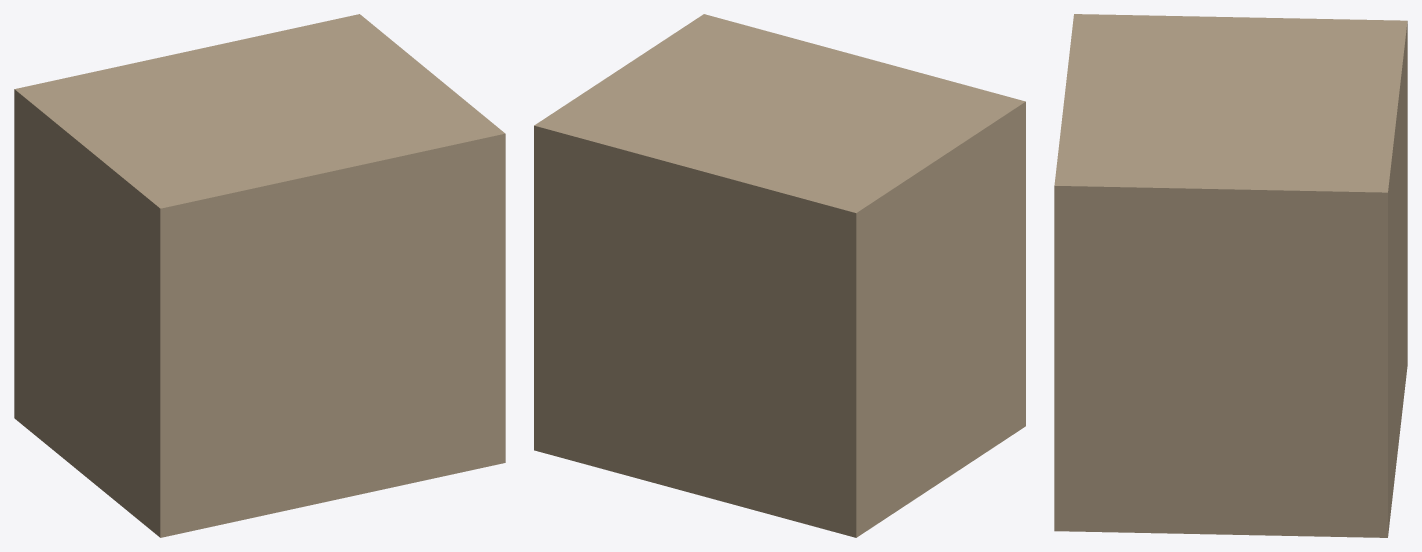
The model's file is bld_101374732.dae.
The picture shows the model from 3 angles, left to right: view 1: azimuth 30°, elevation 25°; view 2: azimuth 150°, elevation 25°; view 3: azimuth 270°, elevation 25°; orthographic projection. The views are drawn at different scales.
Parts seen in each view (by area): view 1: bld_101374732; view 2: bld_101374732; view 3: bld_101374732.
Boxes of the visible parts, <box> form: bld_101374732: <box>14,14,505,537</box>; bld_101374732: <box>534,14,1025,537</box>; bld_101374732: <box>1054,14,1407,537</box>.
Size of the model in its own units: 8.87 by 7.41 by 8.
